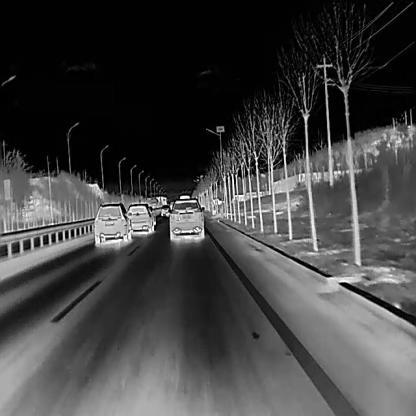car: (167, 195, 204, 242), (93, 202, 132, 245), (125, 202, 154, 234), (160, 203, 171, 216)
